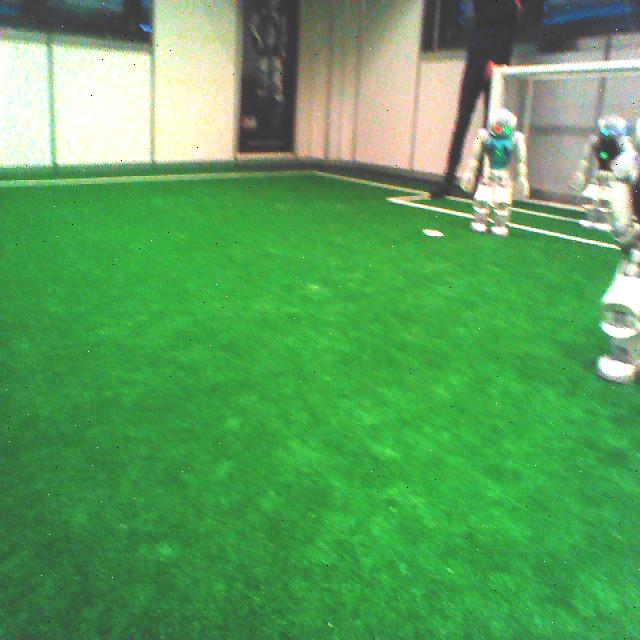goalpost: (491, 68, 506, 119)
